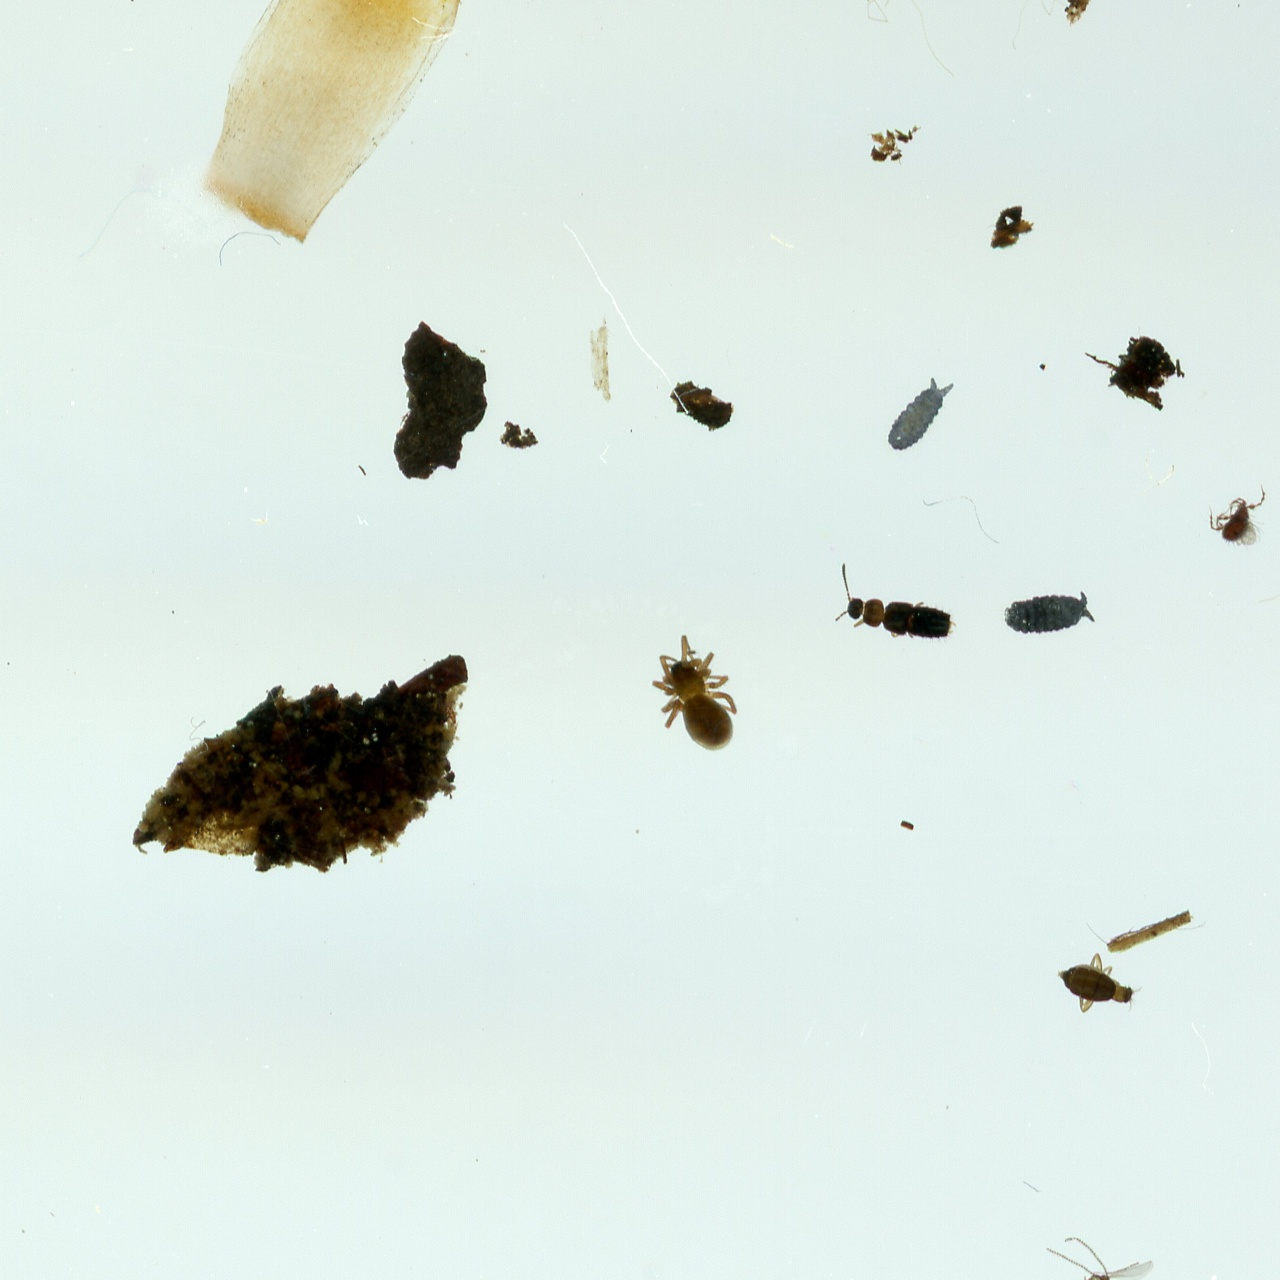arthropod: (823, 0, 956, 78), (652, 634, 737, 752), (835, 562, 956, 641), (1057, 953, 1141, 1015), (1040, 1235, 1155, 1280), (887, 376, 954, 451), (1003, 593, 1096, 634), (1209, 485, 1266, 548), (1010, 0, 1079, 52)
